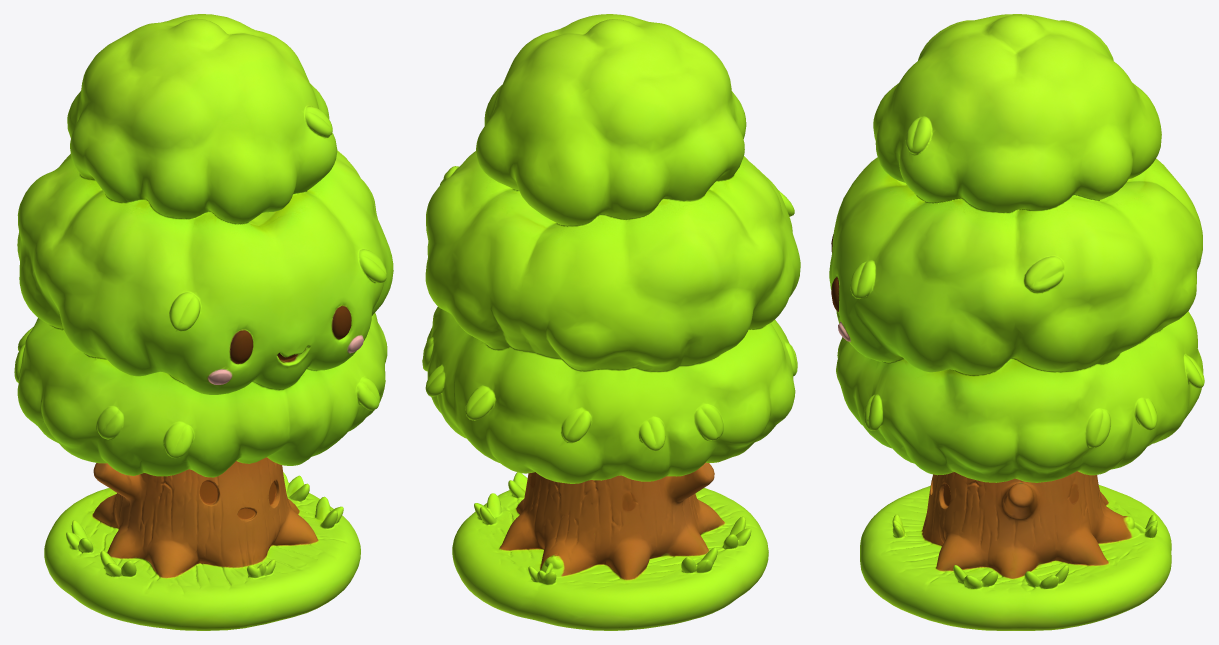
Rendered from prop_tree.glb.
3 views of the same model, side by side, from view 1: azimuth 30°, elevation 25°; view 2: azimuth 150°, elevation 25°; view 3: azimuth 270°, elevation 25° (orthographic).
Bounding box in the file's own units: 1.21 × 1.9 × 1.18.
1 material, 1 textured.
